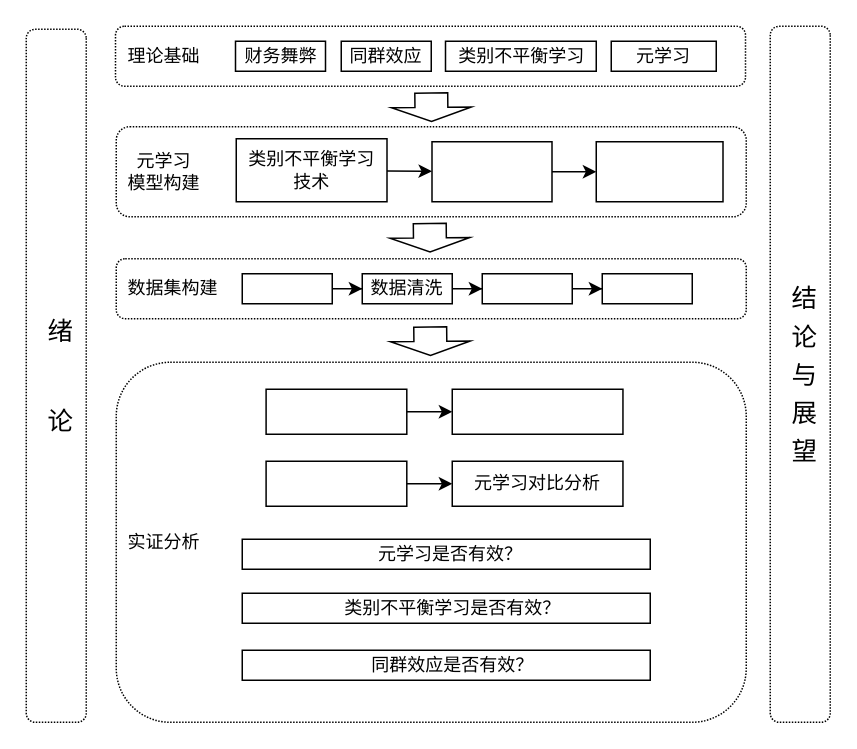
Some shapes in this 857 by 749 pixel diagram are drawn without their labels. The shapes that lost their labels are listed below. From the top down, each one's centre as x and y in pixels, then its label:
At [491,171]: "基学习器".
At [659,171]: "元学习融合".
At [286,288]: "样本选取".
At [526,288]: "特征构造".
At [646,288]: "特征选择".
At [336,411]: "基学习器结果".
At [537,411]: "基学习器对比分析".
At [336,483]: "元学习结果".
